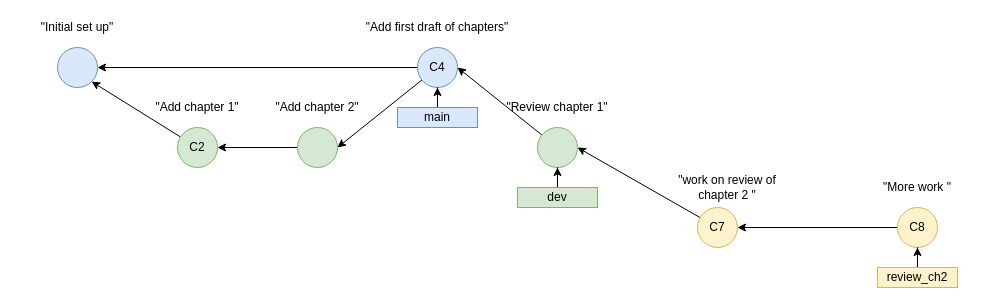
Some shapes in this 994 by 305 pixel diagram are drawn without their labels. The shapes that lost their labels are listed below. From the top down, each one's centre as x and y in pixels, then its label:
pixel 77 67: C1
pixel 317 147: C3
pixel 557 147: C5
